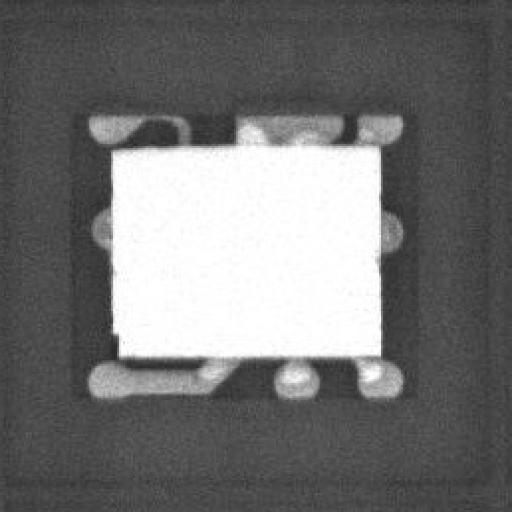DIE_BROKEN: (109, 324, 121, 356)
